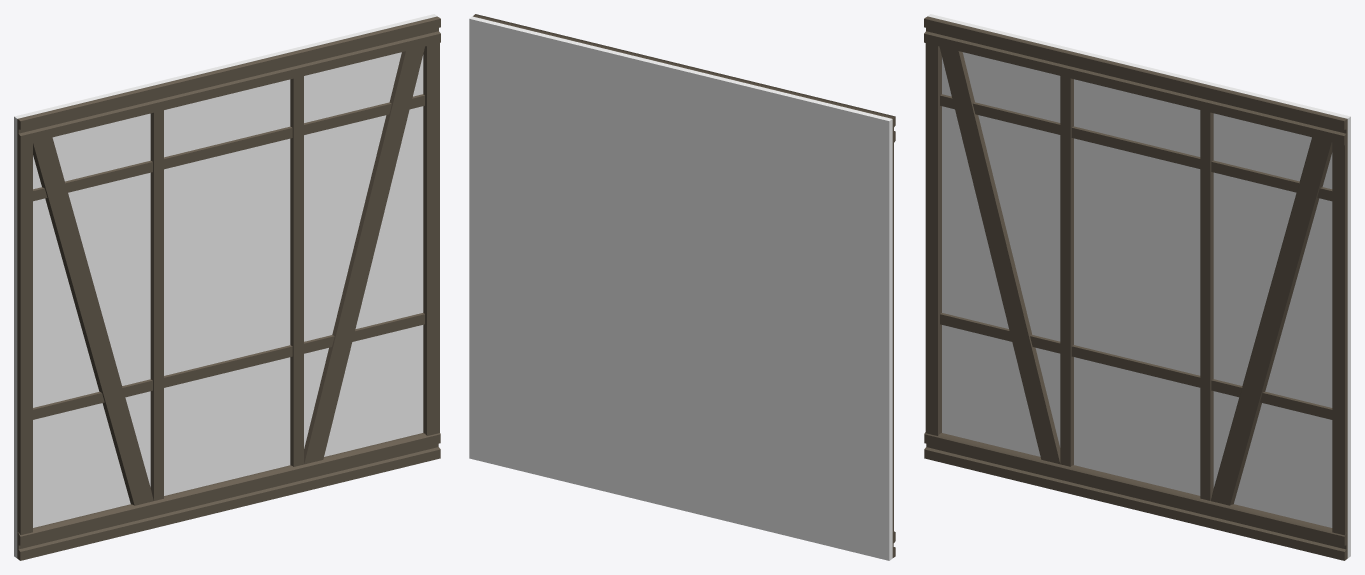
File: WALL_02_1.fbx
3 renders of one model, left to right at view 1: azimuth 30°, elevation 25°; view 2: azimuth 150°, elevation 25°; view 3: azimuth 330°, elevation 25°, orthographic.
Parts seen in each view (by area): view 1: WALL_02_1; view 2: WALL_02_1; view 3: WALL_02_1.
Part boxes in pixels (x1,y1,x2,y2): WALL_02_1: (14, 14, 440, 560); WALL_02_1: (469, 14, 895, 560); WALL_02_1: (924, 14, 1350, 560).
Bounding box in the file's own units: 300 × 300 × 8.
